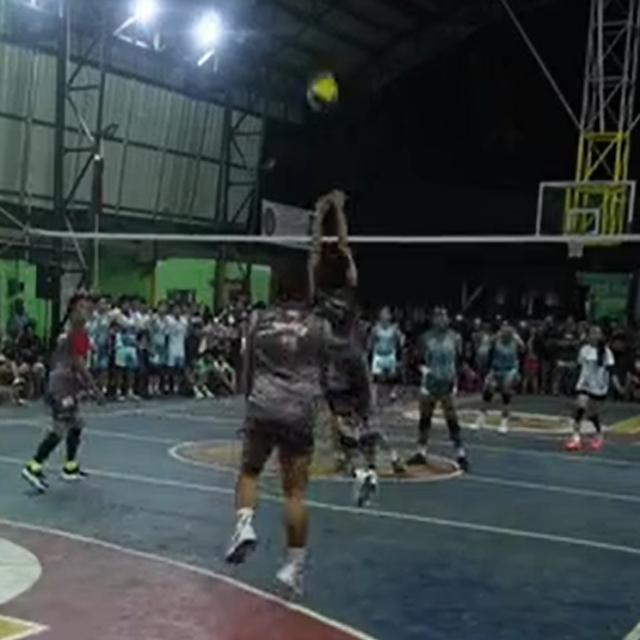volleyball: (304, 75, 338, 114)
